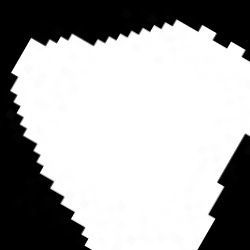spot: (12, 20, 249, 247)
